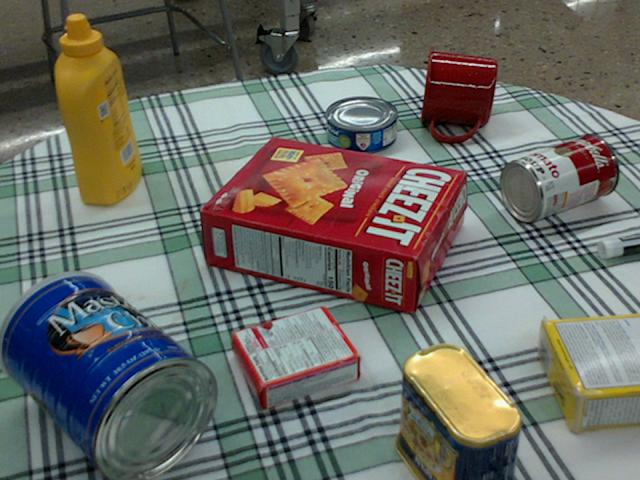cracker_box: (199, 134, 465, 314)
gelatin_box: (230, 306, 362, 406)
large_marker: (598, 233, 639, 256)
master_chef_can: (0, 272, 216, 479)
mug: (419, 46, 497, 141)
mustard_bottle: (55, 14, 141, 204)
potted_meat_can: (394, 341, 521, 479)
sugar_box: (538, 314, 639, 435)
tomato_soup_can: (499, 134, 617, 220)
tuna_fish_can: (325, 96, 397, 152)
